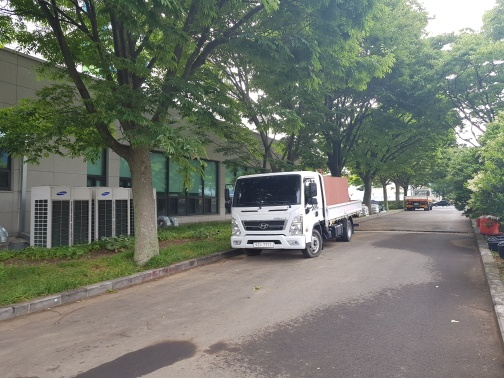Gym: (14, 51, 229, 253)
